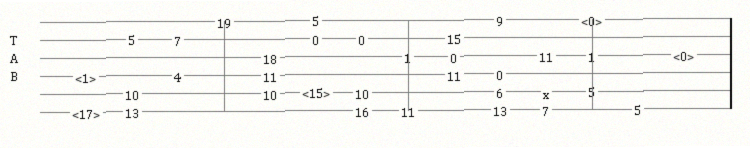0: (312, 32, 323, 45), (358, 32, 369, 45), (450, 50, 461, 63), (496, 68, 507, 81)
1: (404, 50, 415, 63), (588, 50, 599, 63)
10: (125, 86, 143, 99), (263, 86, 281, 99), (355, 86, 373, 99)
11: (263, 68, 281, 81), (401, 104, 419, 117), (447, 68, 465, 81), (539, 50, 557, 63)
13: (125, 104, 143, 117), (493, 104, 511, 117)
15: (447, 31, 465, 45)
16: (355, 104, 373, 117)
18: (263, 50, 281, 63)
19: (217, 14, 235, 27)
4: (174, 68, 185, 81)
5: (128, 31, 139, 45), (312, 13, 323, 27), (588, 85, 599, 99), (634, 103, 645, 117)
6: (496, 86, 507, 99)
7: (174, 32, 185, 45), (542, 104, 553, 117)
9: (496, 14, 507, 27)
harmonic: (302, 85, 334, 99), (72, 104, 104, 117), (75, 68, 100, 81), (581, 14, 606, 27), (673, 50, 698, 63)
x: (543, 87, 553, 97)
